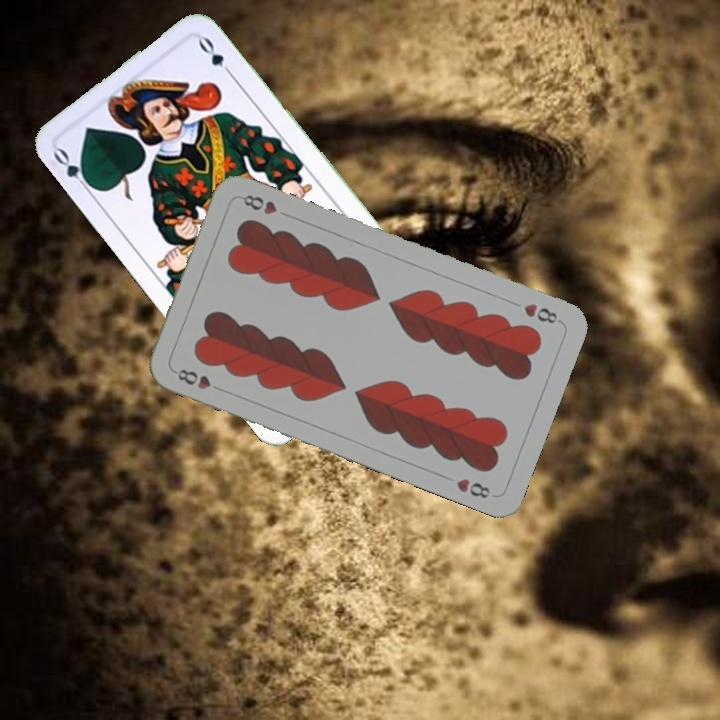GO: (49, 144, 97, 196)
H8: (173, 365, 226, 394), (519, 299, 564, 327)
